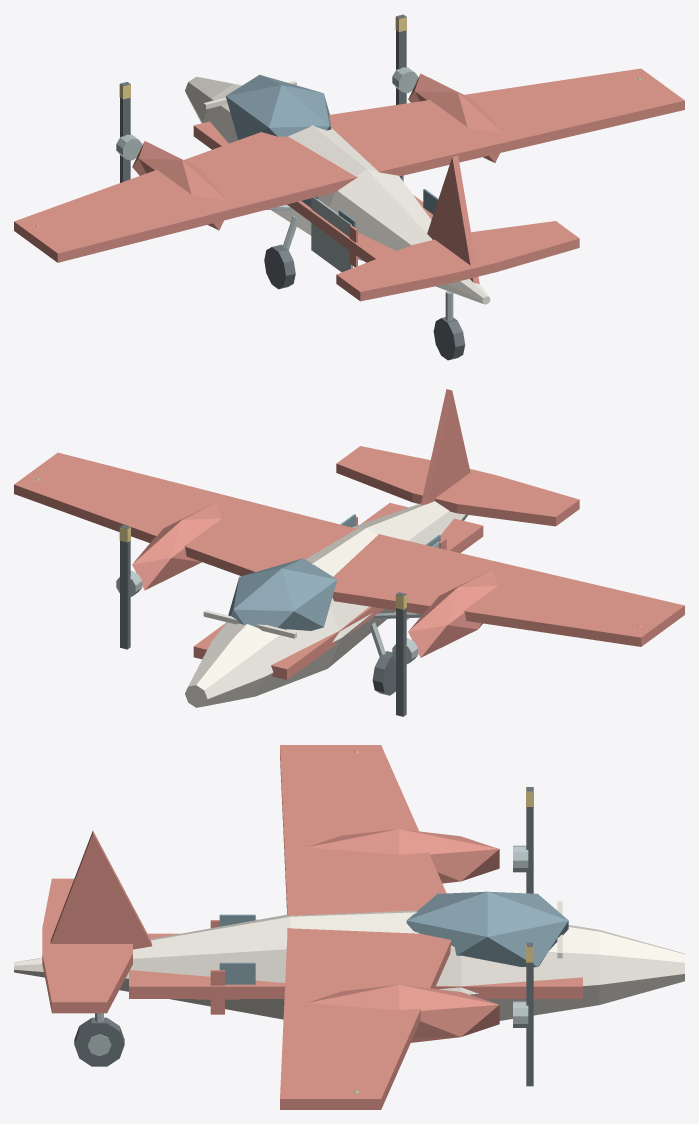
Rendered from medical_turboprop.glb.
3 renders of one model, top to bottom at view 1: azimuth 30°, elevation 25°; view 2: azimuth 150°, elevation 25°; view 3: azimuth 270°, elevation 25°, orthographic. The views are drawn at different scales.
Visible parts, largest first — view 1: medical_turboprop__main_wings, medical_turboprop__faceted_fuselage, medical_turboprop__tailplane, medical_turboprop__cockpit_canopy, medical_turboprop__vertical_tail, medical_turboprop__engine_nacelle, medical_turboprop__signature_stripe, medical_turboprop__engine_nacelle.001, medical_turboprop__cargo_door, medical_turboprop__wheel, medical_turboprop__wheel.002, medical_turboprop__Propeller_blades (+1 smaller); view 2: medical_turboprop__main_wings, medical_turboprop__faceted_fuselage, medical_turboprop__tailplane, medical_turboprop__cockpit_canopy, medical_turboprop__engine_nacelle, medical_turboprop__engine_nacelle.001, medical_turboprop__signature_stripe, medical_turboprop__vertical_tail, medical_turboprop__Propeller_blades, medical_turboprop__Propeller_blades.001, medical_turboprop__wheel, medical_turboprop__windshield_frame; view 3: medical_turboprop__main_wings, medical_turboprop__faceted_fuselage, medical_turboprop__cockpit_canopy, medical_turboprop__tailplane, medical_turboprop__vertical_tail, medical_turboprop__engine_nacelle.001, medical_turboprop__signature_stripe, medical_turboprop__engine_nacelle, medical_turboprop__wheel.002, medical_turboprop__Propeller_blades.001, medical_turboprop__cabin_window.001, medical_turboprop__Propeller_blades.
Boxes of the visible parts, left/top/right/bottom form: medical_turboprop__main_wings: left=14, top=68, right=684, bottom=262; medical_turboprop__faceted_fuselage: left=185, top=76, right=490, bottom=304; medical_turboprop__tailplane: left=336, top=221, right=579, bottom=301; medical_turboprop__cockpit_canopy: left=225, top=74, right=331, bottom=139; medical_turboprop__vertical_tail: left=427, top=155, right=479, bottom=283; medical_turboprop__engine_nacelle: left=132, top=141, right=227, bottom=230; medical_turboprop__signature_stripe: left=193, top=121, right=432, bottom=262; medical_turboprop__engine_nacelle.001: left=408, top=73, right=503, bottom=162; medical_turboprop__cargo_door: left=311, top=197, right=352, bottom=272; medical_turboprop__wheel: left=264, top=244, right=295, bottom=289; medical_turboprop__wheel.002: left=433, top=317, right=465, bottom=360; medical_turboprop__Propeller_blades: left=120, top=82, right=130, bottom=182; medical_turboprop__main_wings: left=14, top=452, right=684, bottom=646; medical_turboprop__faceted_fuselage: left=185, top=501, right=468, bottom=707; medical_turboprop__tailplane: left=336, top=446, right=579, bottom=526; medical_turboprop__cockpit_canopy: left=226, top=558, right=337, bottom=630; medical_turboprop__engine_nacelle: left=408, top=570, right=497, bottom=657; medical_turboprop__engine_nacelle.001: left=132, top=502, right=221, bottom=590; medical_turboprop__signature_stripe: left=193, top=503, right=483, bottom=679; medical_turboprop__vertical_tail: left=421, top=389, right=470, bottom=505; medical_turboprop__Propeller_blades: left=396, top=592, right=406, bottom=716; medical_turboprop__Propeller_blades.001: left=120, top=525, right=130, bottom=649; medical_turboprop__wheel: left=372, top=651, right=395, bottom=695; medical_turboprop__windshield_frame: left=203, top=610, right=296, bottom=638; medical_turboprop__main_wings: left=280, top=745, right=451, bottom=1109; medical_turboprop__faceted_fuselage: left=14, top=910, right=684, bottom=1020; medical_turboprop__cockpit_canopy: left=406, top=891, right=568, bottom=967; medical_turboprop__tailplane: left=42, top=878, right=132, bottom=1013; medical_turboprop__vertical_tail: left=50, top=831, right=152, bottom=949; medical_turboprop__engine_nacelle.001: left=306, top=984, right=499, bottom=1042; medical_turboprop__signature_stripe: left=129, top=933, right=582, bottom=998; medical_turboprop__engine_nacelle: left=306, top=829, right=499, bottom=883; medical_turboprop__wheel.002: left=74, top=1017, right=124, bottom=1066; medical_turboprop__Propeller_blades.001: left=526, top=942, right=533, bottom=1086; medical_turboprop__cabin_window.001: left=219, top=962, right=255, bottom=984; medical_turboprop__Propeller_blades: left=526, top=787, right=533, bottom=893.
Size of the model in its own units: 14 by 4.31 by 11.22.
